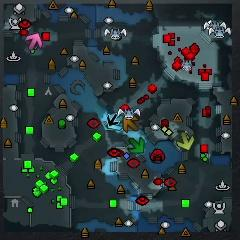x1: (26, 32, 42, 50)
x2: (177, 132, 194, 151)
x3: (109, 115, 123, 131)
x3Clone: (106, 112, 119, 126)
x4: (129, 138, 144, 153)
x5: (123, 114, 139, 133)
